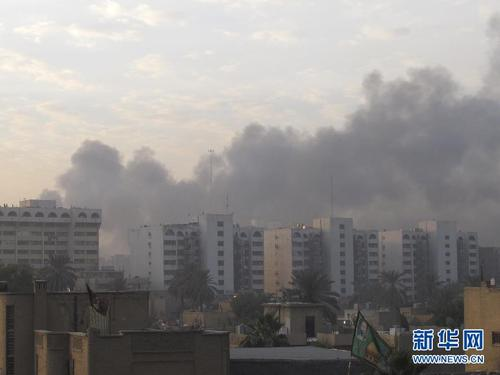smoke: (68, 94, 496, 224)
